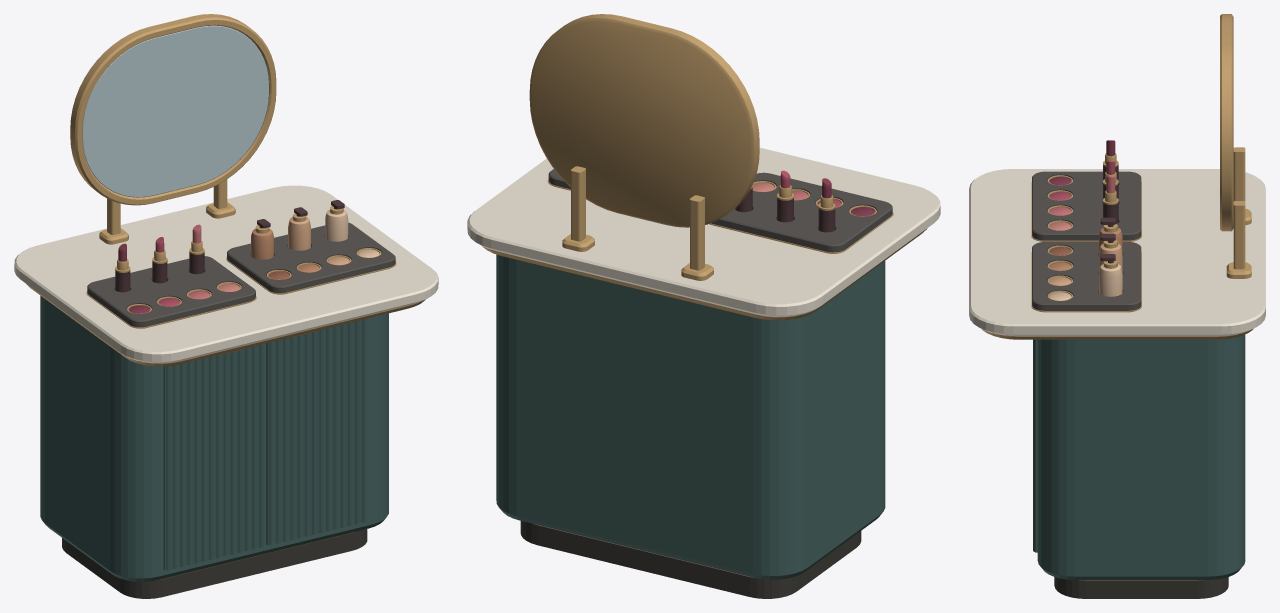
Rendered from mall-cosmetics-tester-bar.glb.
3 views of the same model, side by side, from view 1: azimuth 30°, elevation 25°; view 2: azimuth 150°, elevation 25°; view 3: azimuth 270°, elevation 25° (orthographic). The views are drawn at different scales.
Parts seen in each view (by area): view 1: Reeded_cabinet_carcass_LOD0, Ivory_solid_surface_LOD0, Mirror_inset_silver_face_LOD0, Left_tambour_front_LOD0, Right_tambour_front_LOD0, Mirror_champagne_bezel_LOD0, Lip_socket_tray_LOD0, Complexion_socket_tray_LOD0, Grounded_plinth_LOD0, Mirror_pedestal_feet_and_stems_LOD0, Champagne_apron_LOD0, Complexion_pump_2_LOD0 (+7 smaller); view 2: Reeded_cabinet_carcass_LOD0, Mirror_champagne_bezel_LOD0, Ivory_solid_surface_LOD0, Grounded_plinth_LOD0, Lip_socket_tray_LOD0, Mirror_pedestal_feet_and_stems_LOD0, Champagne_apron_LOD0, Lip_lipstick_1_LOD0, Lip_lipstick_2_LOD0; view 3: Reeded_cabinet_carcass_LOD0, Ivory_solid_surface_LOD0, Lip_socket_tray_LOD0, Complexion_socket_tray_LOD0, Grounded_plinth_LOD0, Mirror_champagne_bezel_LOD0, Mirror_pedestal_feet_and_stems_LOD0, Right_tambour_front_LOD0, Champagne_apron_LOD0, Complexion_pump_3_LOD0, Lip_four_pressed_swatches_LOD0, Complexion_four_pressed_swatches_LOD0 (+3 smaller).
Boxes of the visible parts, x1=… form: Reeded_cabinet_carcass_LOD0: x1=40, y1=295, x2=388, y2=581; Ivory_solid_surface_LOD0: x1=14, y1=185, x2=438, y2=363; Mirror_inset_silver_face_LOD0: x1=82, y1=25, x2=268, y2=197; Left_tambour_front_LOD0: x1=163, y1=343, x2=264, y2=570; Right_tambour_front_LOD0: x1=266, y1=318, x2=367, y2=545; Mirror_champagne_bezel_LOD0: x1=70, y1=14, x2=276, y2=205; Lip_socket_tray_LOD0: x1=87, y1=256, x2=255, y2=327; Complexion_socket_tray_LOD0: x1=227, y1=222, x2=395, y2=293; Grounded_plinth_LOD0: x1=62, y1=529, x2=367, y2=598; Mirror_pedestal_feet_and_stems_LOD0: x1=99, y1=179, x2=235, y2=244; Champagne_apron_LOD0: x1=26, y1=284, x2=425, y2=366; Complexion_pump_2_LOD0: x1=288, y1=207, x2=310, y2=250; Reeded_cabinet_carcass_LOD0: x1=496, y1=254, x2=885, y2=579; Mirror_champagne_bezel_LOD0: x1=529, y1=14, x2=759, y2=227; Ivory_solid_surface_LOD0: x1=467, y1=147, x2=940, y2=316; Grounded_plinth_LOD0: x1=520, y1=521, x2=861, y2=598; Lip_socket_tray_LOD0: x1=711, y1=172, x2=892, y2=252; Mirror_pedestal_feet_and_stems_LOD0: x1=562, y1=166, x2=713, y2=280; Champagne_apron_LOD0: x1=482, y1=228, x2=927, y2=320; Lip_lipstick_1_LOD0: x1=818, y1=178, x2=835, y2=232; Lip_lipstick_2_LOD0: x1=777, y1=170, x2=793, y2=222; Reeded_cabinet_carcass_LOD0: x1=1037, y1=334, x2=1245, y2=579; Ivory_solid_surface_LOD0: x1=969, y1=169, x2=1265, y2=336; Lip_socket_tray_LOD0: x1=1032, y1=171, x2=1141, y2=240; Complexion_socket_tray_LOD0: x1=1032, y1=242, x2=1141, y2=310; Grounded_plinth_LOD0: x1=1054, y1=577, x2=1228, y2=598; Mirror_champagne_bezel_LOD0: x1=1220, y1=14, x2=1233, y2=231; Mirror_pedestal_feet_and_stems_LOD0: x1=1226, y1=147, x2=1251, y2=278; Right_tambour_front_LOD0: x1=1033, y1=339, x2=1037, y2=552; Champagne_apron_LOD0: x1=981, y1=329, x2=1253, y2=339; Complexion_pump_3_LOD0: x1=1099, y1=254, x2=1122, y2=296; Lip_four_pressed_swatches_LOD0: x1=1049, y1=176, x2=1071, y2=230; Complexion_four_pressed_swatches_LOD0: x1=1049, y1=247, x2=1071, y2=300.
Size of the model in its own units: 1 by 1.5 by 0.8.
